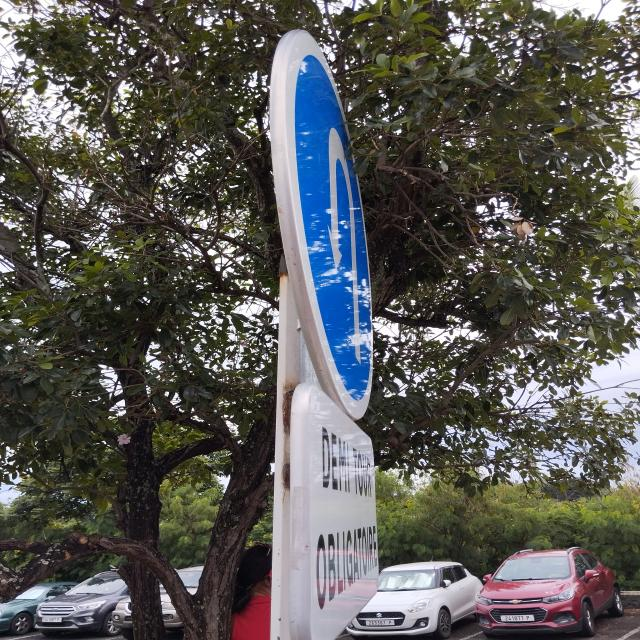Demi-Tour-Obligatoire: (271, 25, 375, 419)
